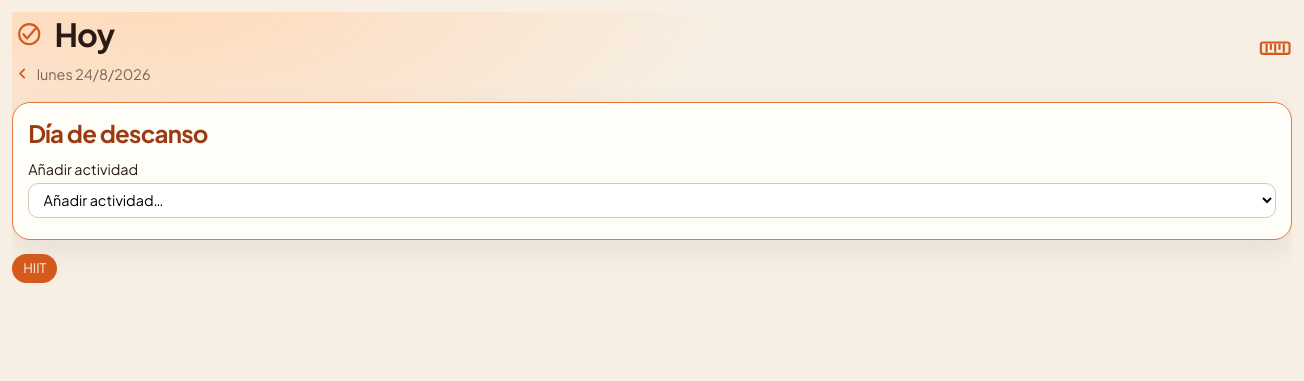
it: Hoy › al apuntar una actividad en día de descanso muestra el check
Select "Caminar" in the dropdown labelled "Añadir actividad": (652,200) [28,183,1276,218]
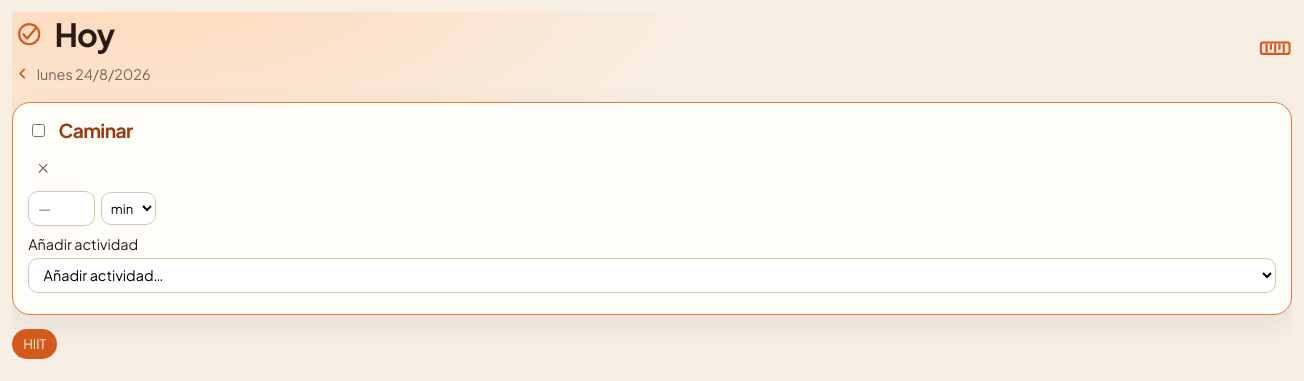
Result: the text "Caminar" is shown at [59,118,133,142]
Click the checkbox named "Hecha": (39,130) [32,124,45,137]
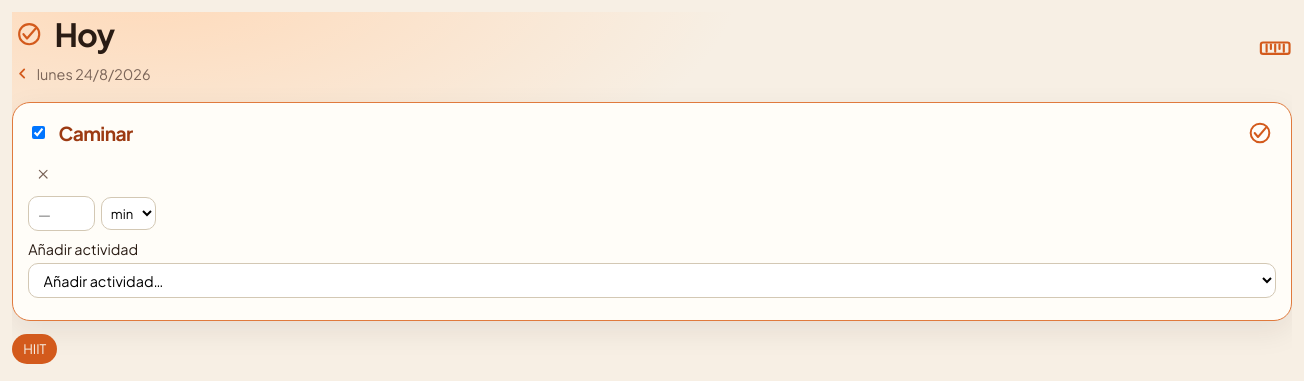
Result: the icon with class "icono-hecho" is shown at [1244,117,1276,149]
